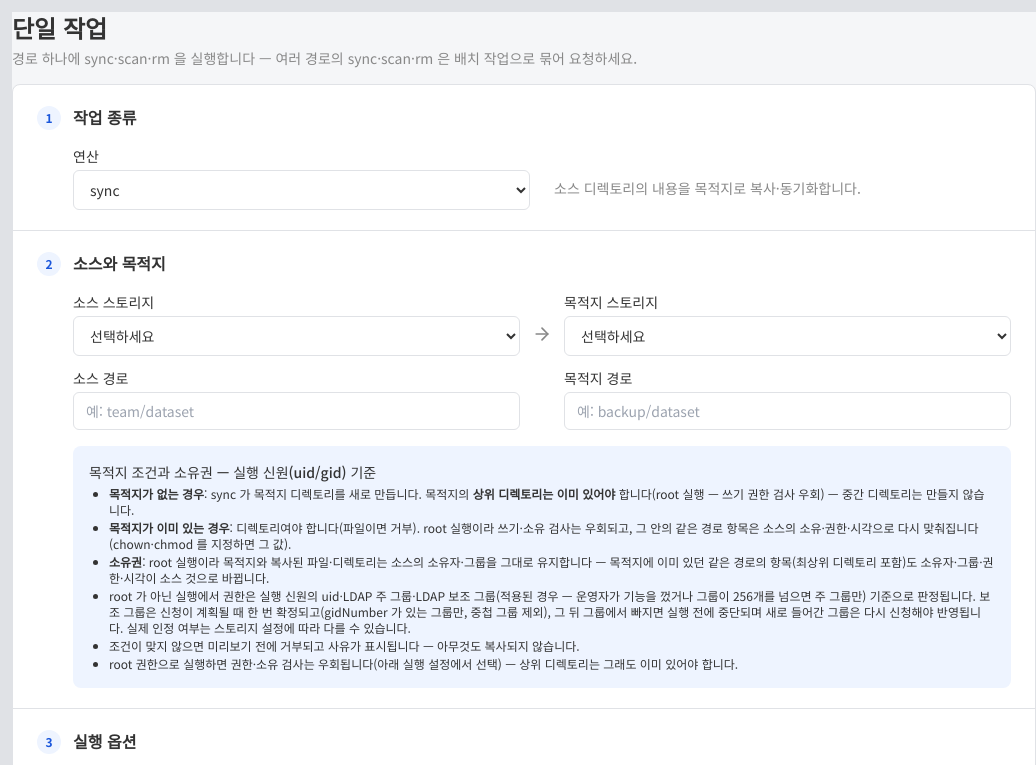
Test: 연산을 rm으로 바꾸면 대상 필드 구성이 바뀌고 rm 경고가 한 번 뜬다
This screenshot has width=1036, height=765.
Expected: the dropdown labelled "목적지 스토리지" is shown, [564, 316, 1011, 356]
Expected: the field labelled "목적지 경로" is shown, [564, 392, 1011, 430]
Select "rm" in the dropdown labelled "연산": coordinates (302, 190) [73, 170, 530, 210]
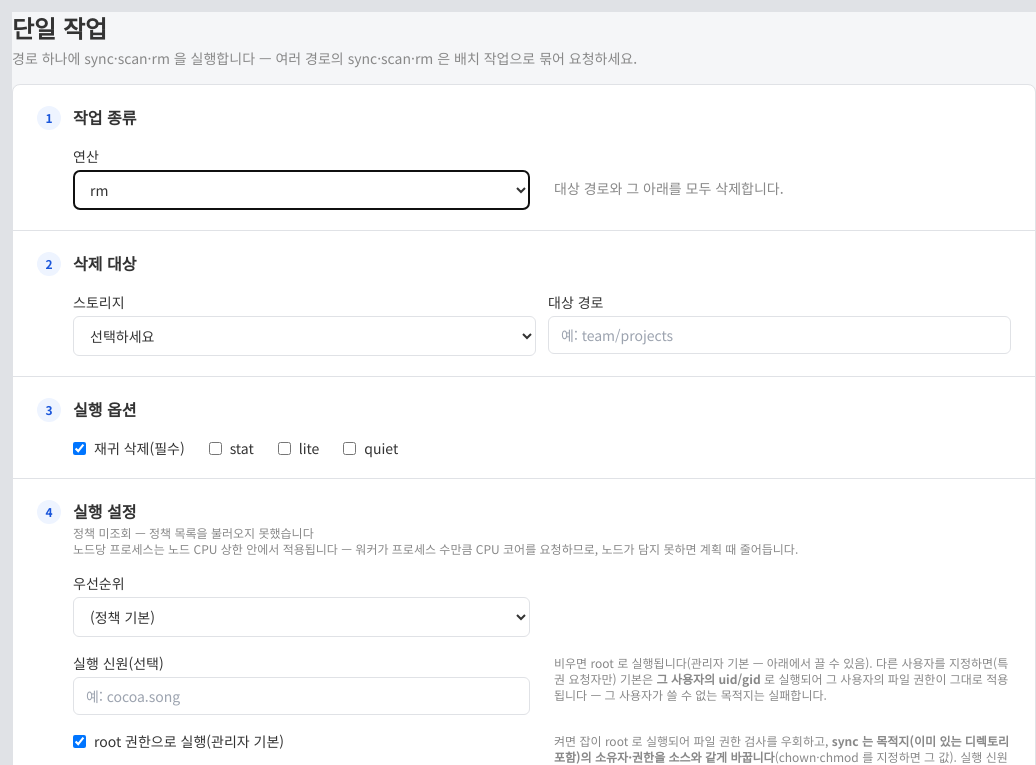
Now the label labelled "목적지 스토리지" is gone
Now the label labelled "목적지 경로" is gone
Now the field labelled "대상 경로" is shown, box [548, 316, 1011, 354]
